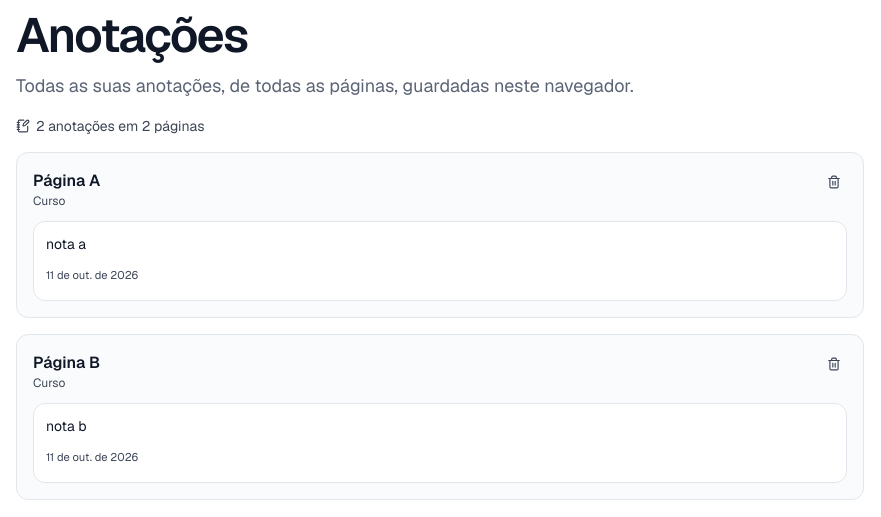
Test: AnnotationsListPage › removes an entire page's group at once
The image size is (881, 517).
Expected: the text "nota a" is shown, left=46, top=235, right=86, bottom=253
Click the button named "Remover todas as anotações desta página" in the row of "Página A": [834, 182] box left=821, top=169, right=847, bottom=195
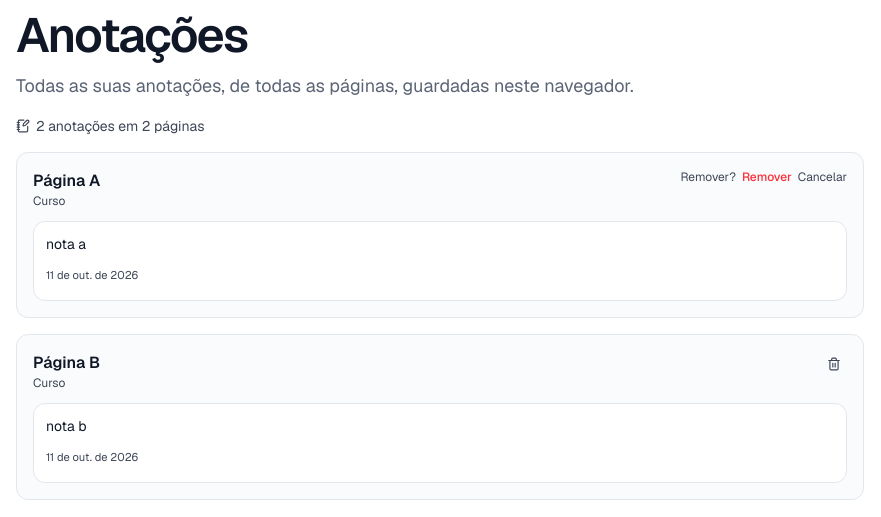
Click the button "Remover": [767, 177] box left=742, top=169, right=792, bottom=185
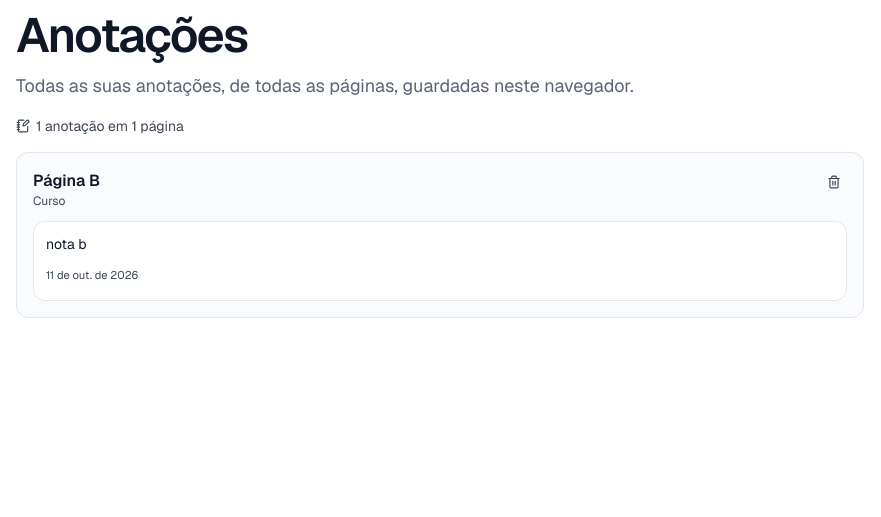
Expected: the link "Página B" is shown, left=33, top=170, right=100, bottom=191
Expected: the link "Página A" is gone
